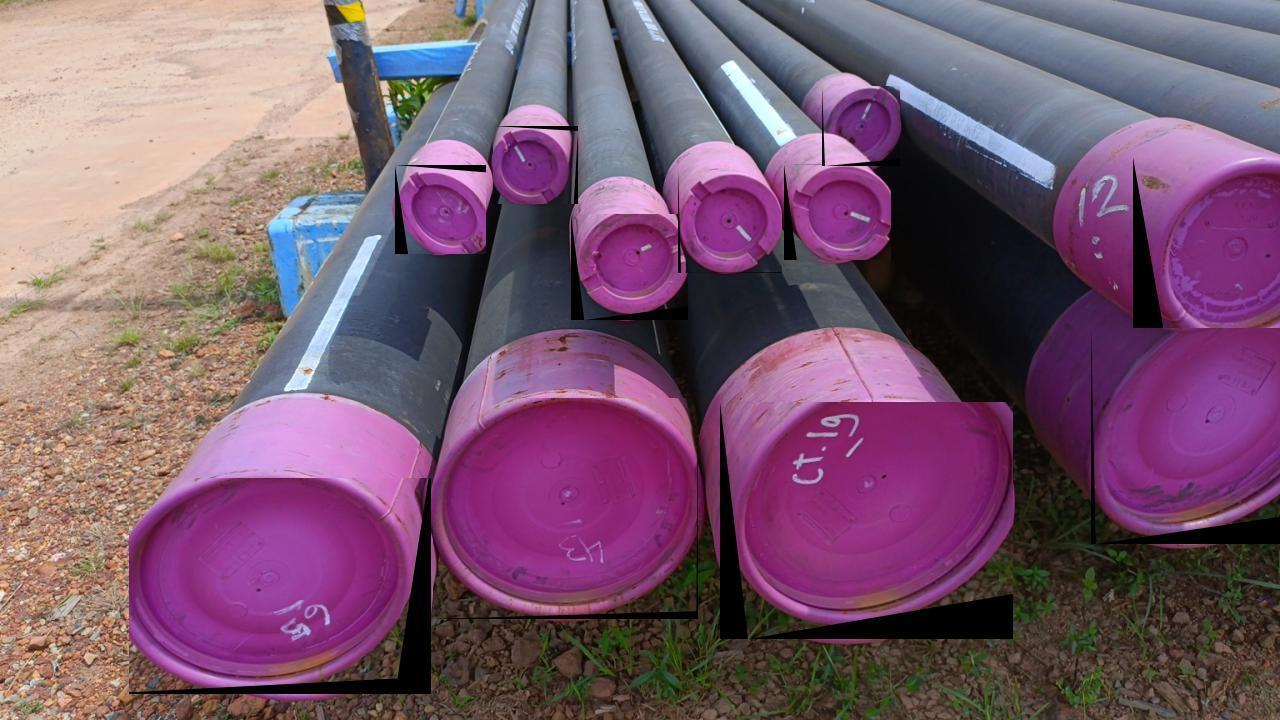pipe: (720, 402, 1013, 639), (130, 478, 432, 694), (433, 398, 698, 619), (1091, 328, 1280, 544), (1133, 157, 1280, 343), (571, 214, 688, 320), (678, 170, 782, 273), (784, 165, 891, 260), (395, 165, 486, 254), (493, 126, 578, 204), (822, 86, 900, 166)
